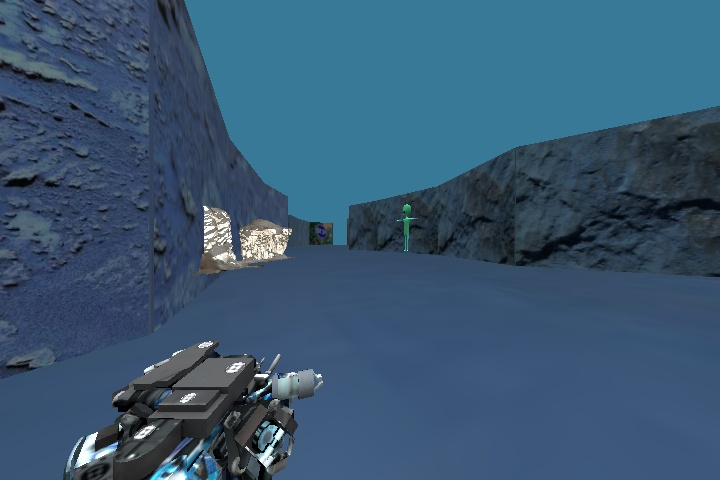formation: (188, 196, 298, 270)
green_alien: (392, 199, 424, 259)
